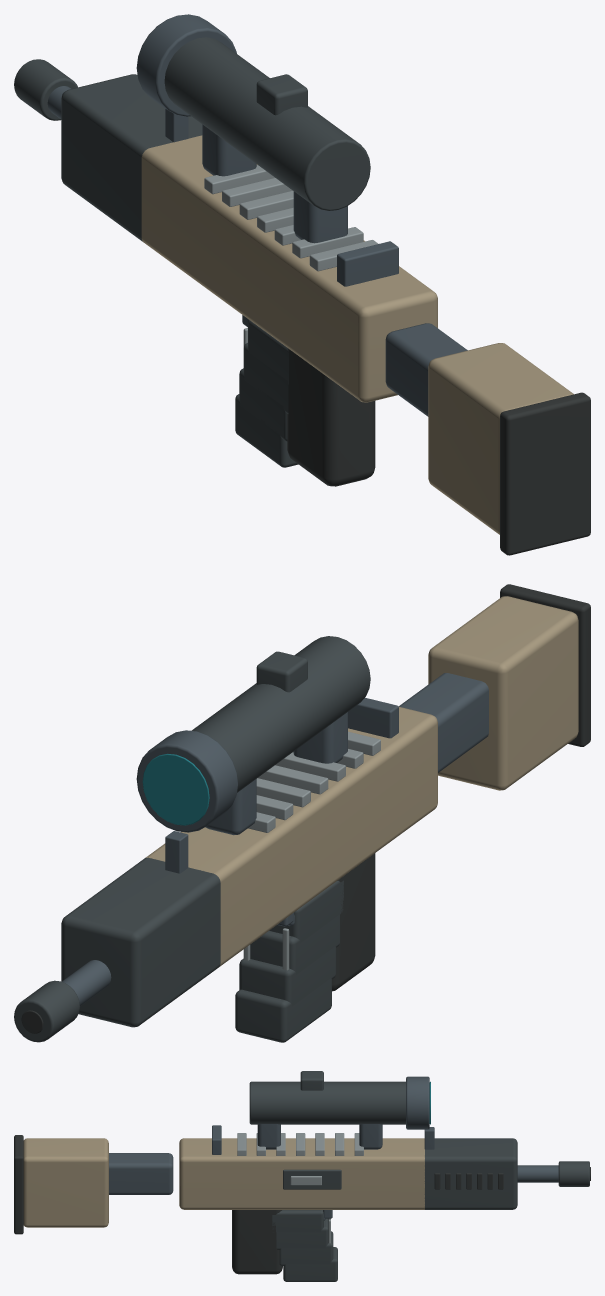
File: weapon-2.glb
3 views of the same model, one above another, from view 1: azimuth 30°, elevation 25°; view 2: azimuth 150°, elevation 25°; view 3: azimuth 270°, elevation 25° (orthographic). The views are drawn at different scales.
Visible parts, largest first — view 1: Receiver, Scope, Adjustable stock, Shoulder pad, Handguard, Trigger grip, Stock spine, Scope objective, Rear sight, Muzzle brake, Scope mount.001, Magazine section.003 (+10 smaller); view 2: Receiver, Adjustable stock, Handguard, Scope, Stock spine, Scope objective, Trigger grip, Scope lens, Magazine section.003, Magazine section.002, Shoulder pad, Magazine section.001 (+12 smaller); view 3: Receiver, Adjustable stock, Scope, Handguard, Trigger grip, Stock spine, Scope objective, Magazine section, Magazine section.003, Shoulder pad, Magazine section.002, Magazine section.001 (+8 smaller).
Part boxes in pixels (x1,y1,x2,y2): Receiver: [141, 135, 437, 402]; Scope: [164, 37, 370, 210]; Adjustable stock: [428, 343, 573, 534]; Shoulder pad: [500, 392, 590, 555]; Handguard: [61, 74, 202, 241]; Trigger grip: [287, 348, 375, 486]; Stock spine: [385, 323, 467, 416]; Scope objective: [136, 14, 236, 116]; Rear sight: [337, 241, 398, 286]; Muzzle brake: [14, 59, 77, 120]; Scope mount.001: [293, 191, 347, 243]; Magazine section.003: [235, 394, 298, 467]; Receiver: [145, 706, 437, 966]; Adjustable stock: [428, 596, 578, 790]; Handguard: [61, 857, 220, 1027]; Scope: [191, 636, 370, 792]; Stock spine: [399, 673, 488, 772]; Scope objective: [136, 730, 237, 832]; Trigger grip: [332, 853, 375, 991]; Scope lens: [142, 753, 209, 825]; Magazine section.003: [235, 978, 331, 1042]; Magazine section.002: [239, 946, 336, 1006]; Shoulder pad: [500, 584, 590, 746]; Magazine section.001: [250, 914, 339, 974]; Receiver: [179, 1138, 424, 1209]; Adjustable stock: [23, 1138, 108, 1227]; Scope: [249, 1081, 405, 1124]; Handguard: [424, 1138, 517, 1209]; Trigger grip: [232, 1210, 282, 1274]; Stock spine: [109, 1153, 173, 1194]; Scope objective: [406, 1076, 429, 1129]; Magazine section: [272, 1210, 323, 1232]; Magazine section.003: [283, 1247, 337, 1281]; Shoulder pad: [14, 1135, 23, 1234]; Magazine section.002: [279, 1231, 333, 1265]; Magazine section.001: [276, 1218, 328, 1249].
Bounding box in the file's own units: 0.146 × 0.5675 × 1.48.
